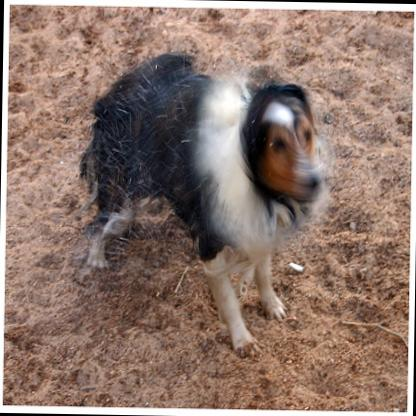Shetland_sheepdog: (75, 49, 333, 358)
